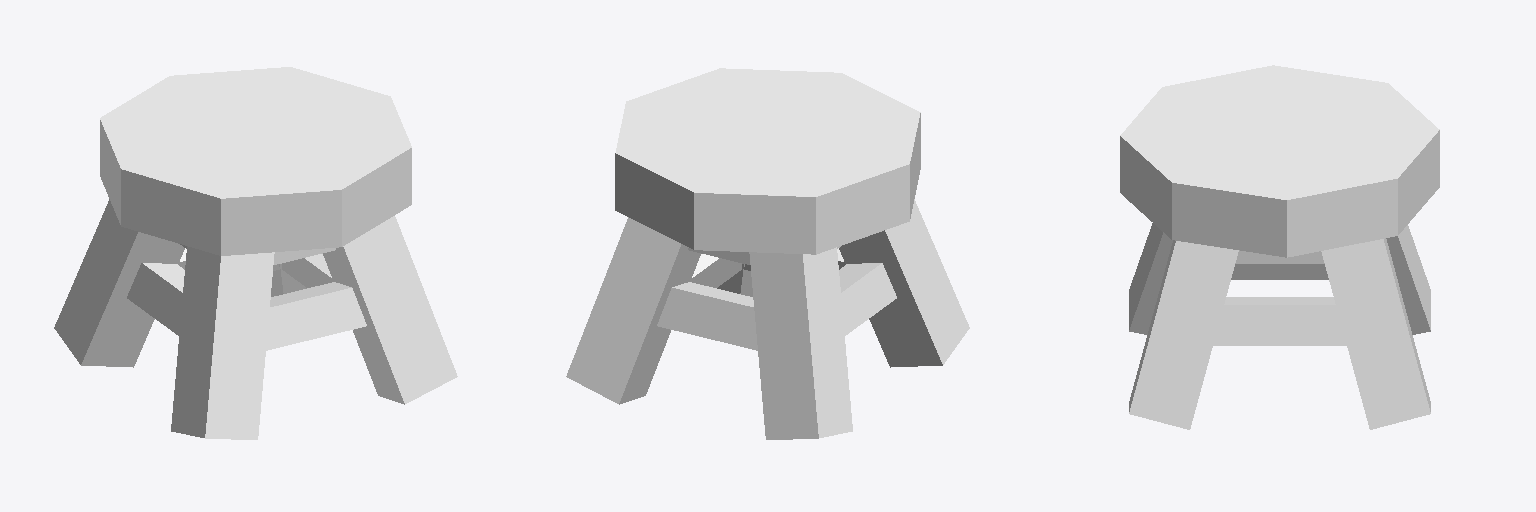
The model's file is mt_chair_small_2.obj.
The picture shows the model from 3 angles: view 1: azimuth 30°, elevation 25°; view 2: azimuth 150°, elevation 25°; view 3: azimuth 270°, elevation 25°; orthographic projection.
Parts seen in each view (by area): view 1: cube.001, cube.008, cube.002, cube.000, octagon.001, octagon.002, octagon.000, cube.005, octagon, cube.004, cube.009, cube.006 (+1 smaller); view 2: cube.000, cube.008, cube, cube.001, octagon.000, octagon, octagon.001, cube.007, octagon.002, cube.004, cube.009, cube.006 (+1 smaller); view 3: cube.008, cube, cube.002, octagon.002, octagon, octagon.000, cube.006, octagon.001, cube.001, cube.000, cube.009, cube.004 (+1 smaller).
Part boxes in pixels (x1,y1,x2,y2): cube.001: (171,246,274,439); cube.008: (128,75,386,183); cube.002: (323,216,457,404); cube.000: (54,199,184,367); octagon.001: (173,67,341,255); octagon.002: (121,67,390,255); octagon.000: (101,76,411,246); cube.005: (266,282,366,350); octagon: (100,97,411,224); cube.004: (127,263,184,335); cube.009: (142,82,372,179); cube.006: (282,254,333,287); cube.000: (749,247,852,439); cube.008: (637,75,895,184); cube: (566,217,700,404); cube.001: (839,199,969,367); octagon.000: (694,68,841,254); octagon: (626,68,909,254); octagon.001: (615,73,918,249); cube.007: (657,282,757,350); octagon.002: (616,102,920,218); cube.004: (839,263,896,335); cube.009: (650,82,881,179); cube.006: (690,254,741,287); cube.008: (1185,91,1375,170); cube: (1321,238,1430,429); cube.002: (1129,240,1238,429); octagon.002: (1162,65,1397,257); octagon: (1172,65,1384,257); octagon.000: (1120,83,1439,239); cube.006: (1213,297,1346,345); octagon.001: (1120,88,1439,234); cube.001: (1129,223,1172,334); cube.000: (1386,225,1430,334); cube.009: (1146,76,1414,188); cube.004: (1231,264,1328,279).
Size of the model in its own units: 0.4731 by 0.4102 by 0.4731.